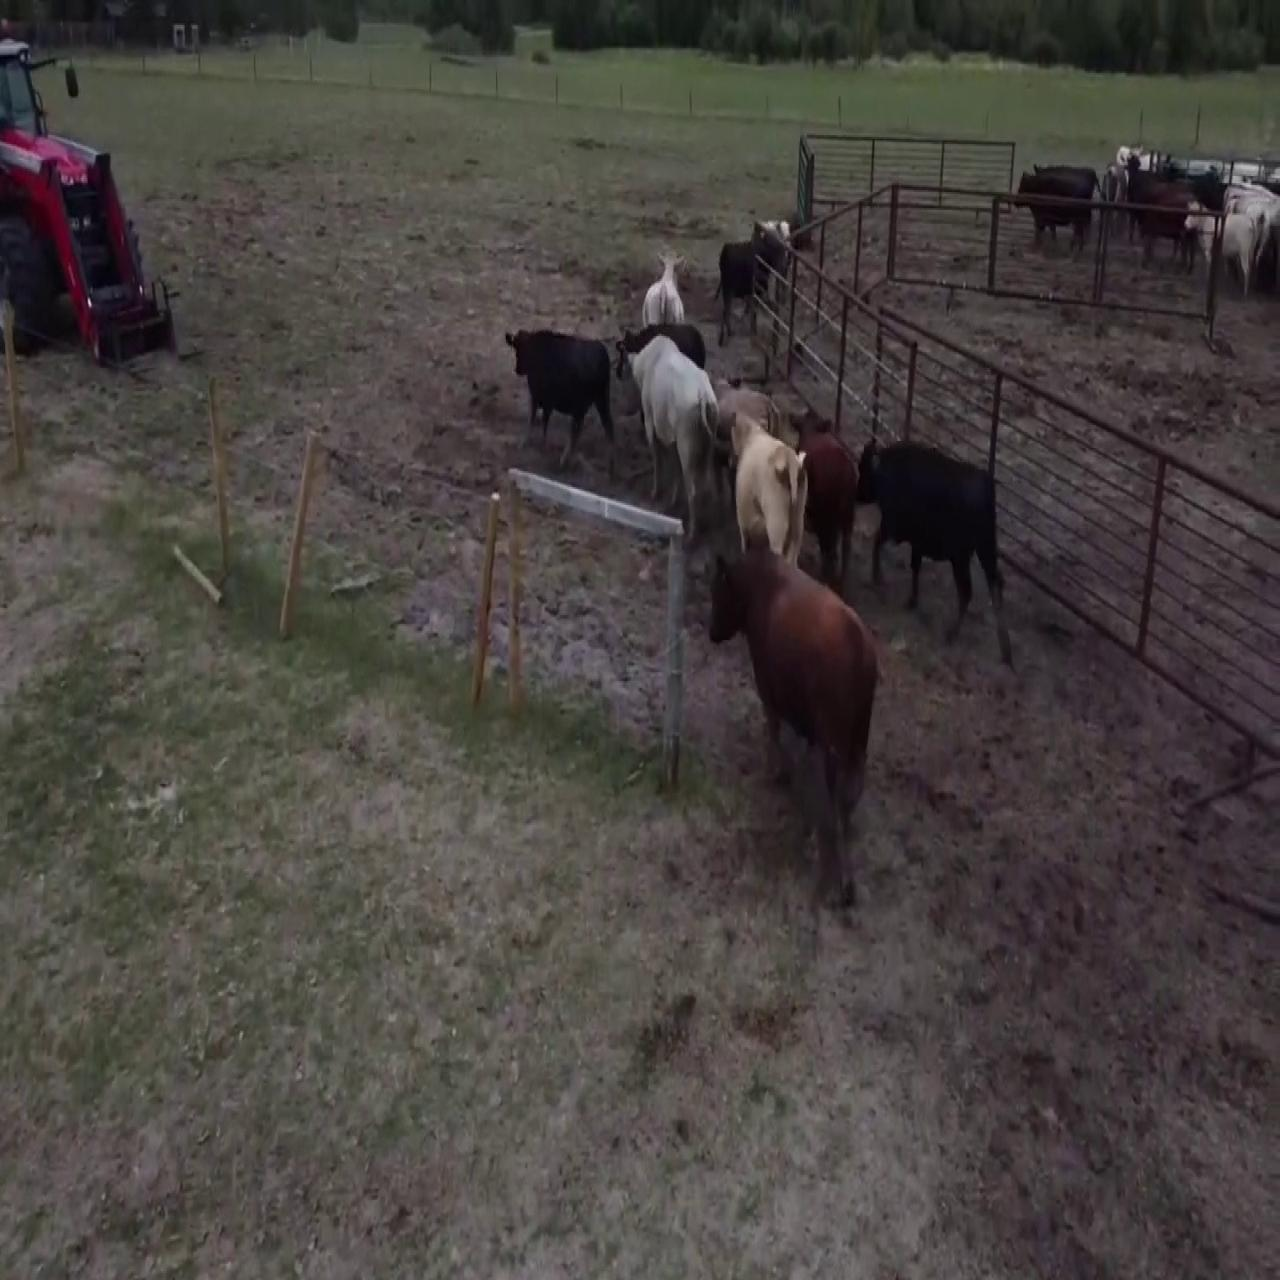cow: (704, 538, 891, 918), (858, 437, 1008, 628), (625, 338, 722, 538), (502, 321, 620, 464), (727, 399, 805, 574), (1021, 162, 1111, 267), (797, 438, 862, 583), (1186, 192, 1259, 292), (622, 233, 692, 332), (714, 237, 769, 346)
